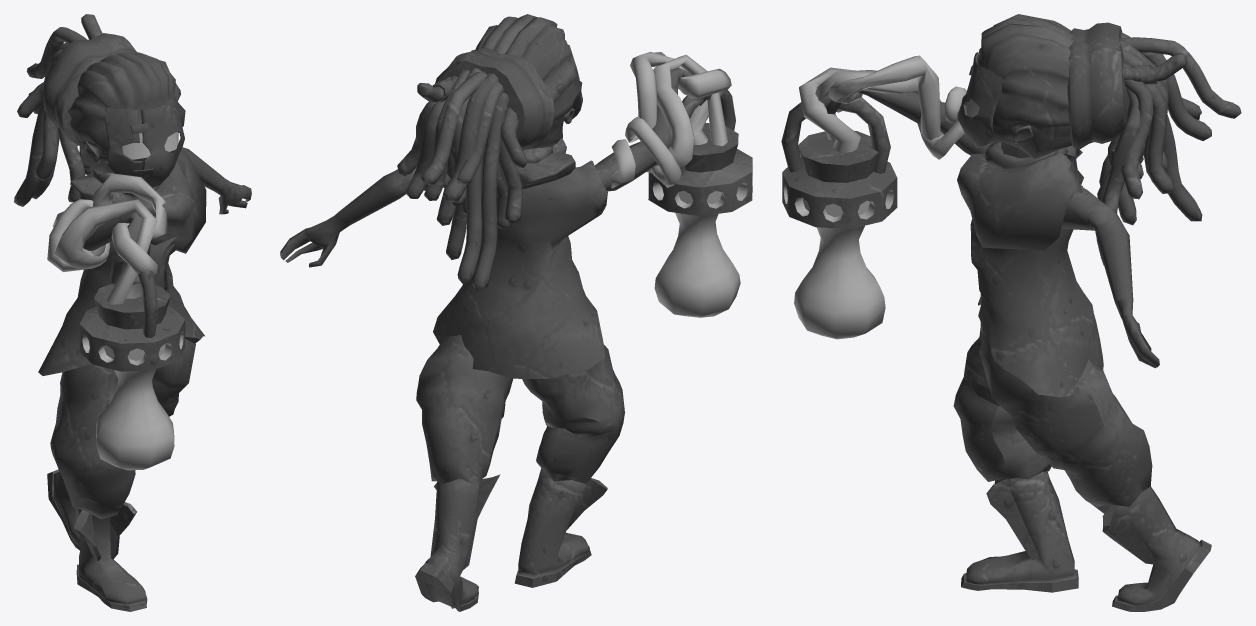
File: statut personnage.fbx
3 views of the same model, side by side, from view 1: azimuth 30°, elevation 25°; view 2: azimuth 150°, elevation 25°; view 3: azimuth 270°, elevation 25° (orthographic). The views are drawn at different scales.
Visible parts, largest first — view 1: polySurface39, polySurface32; view 2: polySurface39, polySurface32; view 3: polySurface39, polySurface32.
Boxes of the visible parts, x1,y1,x2,y2 form: polySurface39: (14, 14, 251, 611); polySurface32: (47, 132, 183, 470); polySurface39: (280, 14, 752, 611); polySurface32: (610, 52, 752, 317); polySurface39: (781, 14, 1241, 611); polySurface32: (783, 55, 979, 339).
Bounding box in the file's own units: 0.9171 × 1.51 × 1.09.
